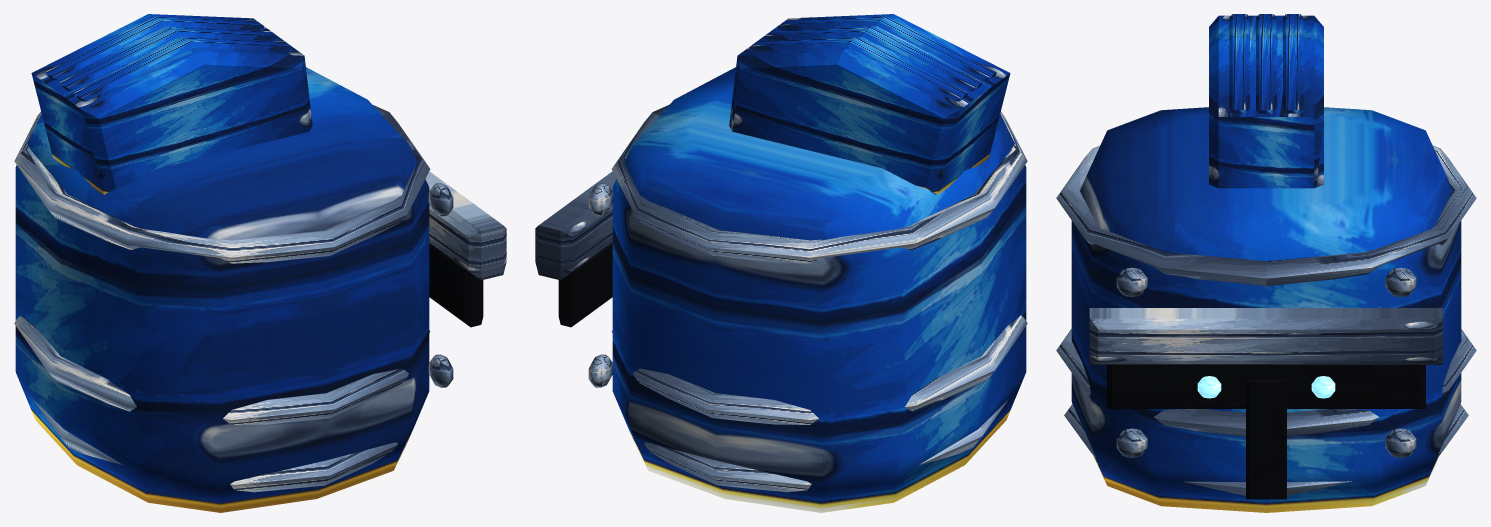
Rendered from cobalt.glb.
3 renders of one model, left to right at view 1: azimuth 30°, elevation 25°; view 2: azimuth 150°, elevation 25°; view 3: azimuth 270°, elevation 25°, orthographic. The views are drawn at different scales.
Parts seen in each view (by area): view 1: head; view 2: head; view 3: head.
Boxes of the visible parts, x1,y1,x2,y2 form: head: [14, 14, 506, 512]; head: [535, 14, 1027, 512]; head: [1056, 14, 1476, 512].
Bounding box in the file's own units: 0.4195 × 0.4456 × 0.4392.
Materials: 4 (4 with a texture image).
